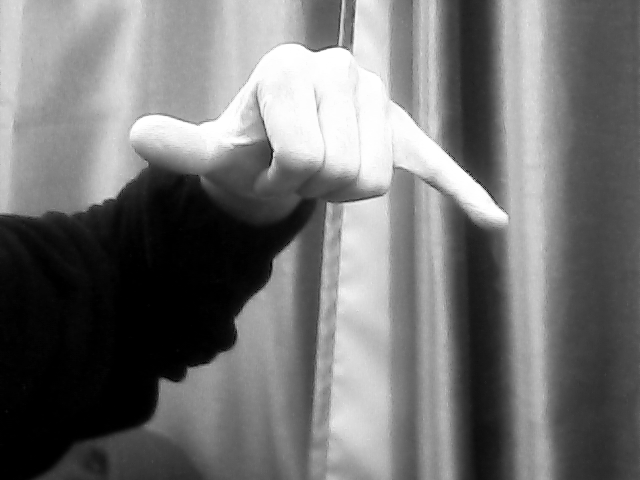aloha: (127, 39, 516, 245)
